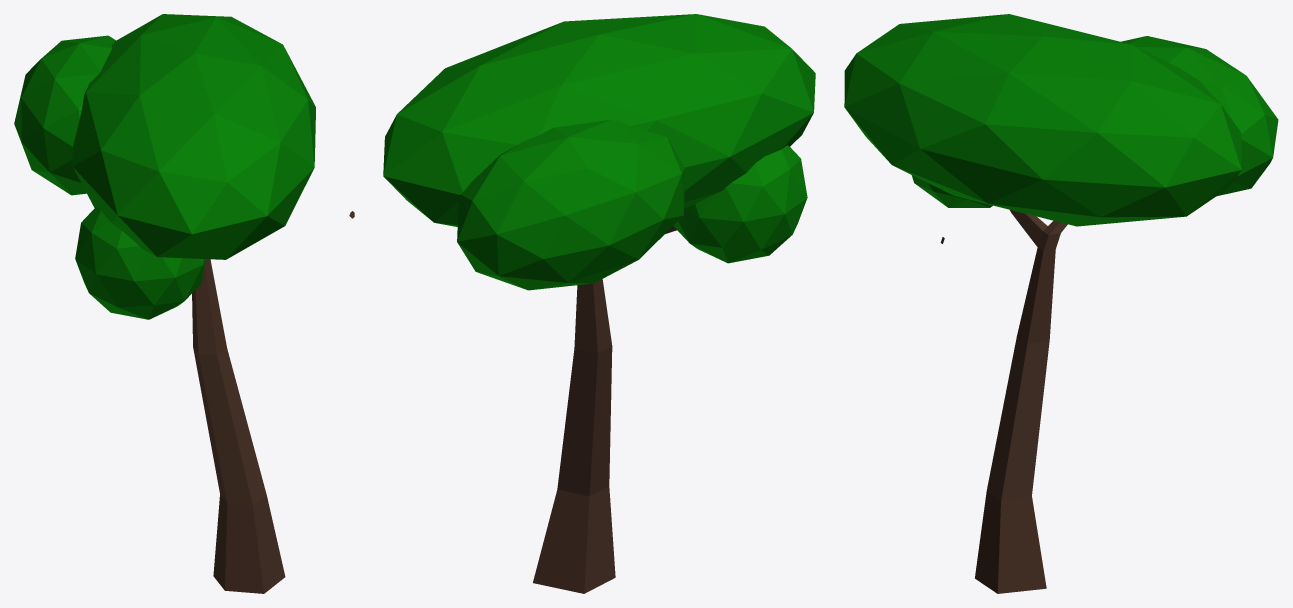
Rendered from arbre2.fbx.
The picture shows the model from 3 angles, left to right: view 1: azimuth 30°, elevation 25°; view 2: azimuth 150°, elevation 25°; view 3: azimuth 270°, elevation 25°; orthographic projection. The views are drawn at different scales.
Parts seen in each view (by area): view 1: polySurface8; view 2: polySurface8; view 3: polySurface8.
Boxes of the visible parts, box(x1,y1,x2,y2) form: polySurface8: box(14, 14, 354, 593); polySurface8: box(383, 14, 815, 593); polySurface8: box(844, 14, 1278, 593).
Bounding box in the file's own units: 354 × 625 × 468.
